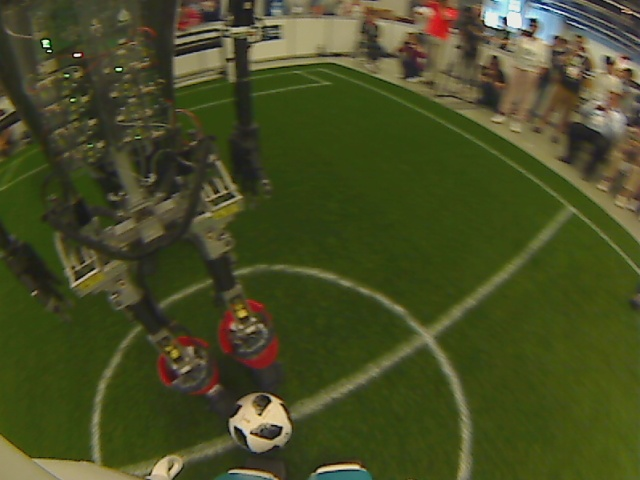ball: (227, 390, 296, 455)
